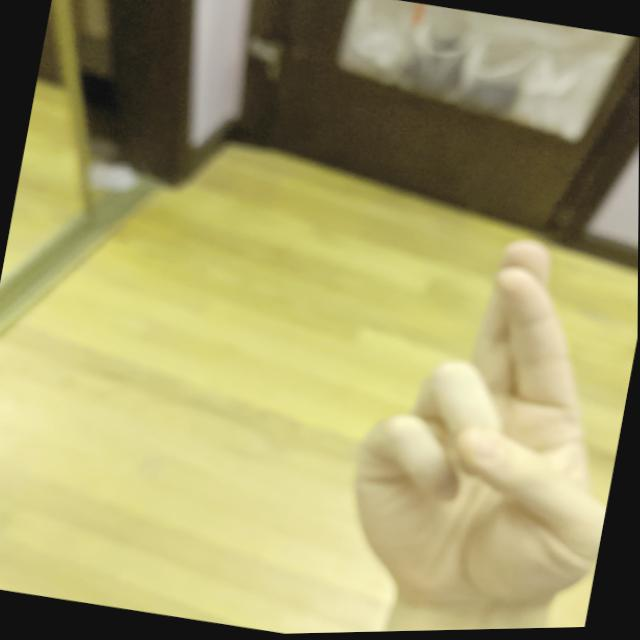R: (318, 204, 638, 633)
